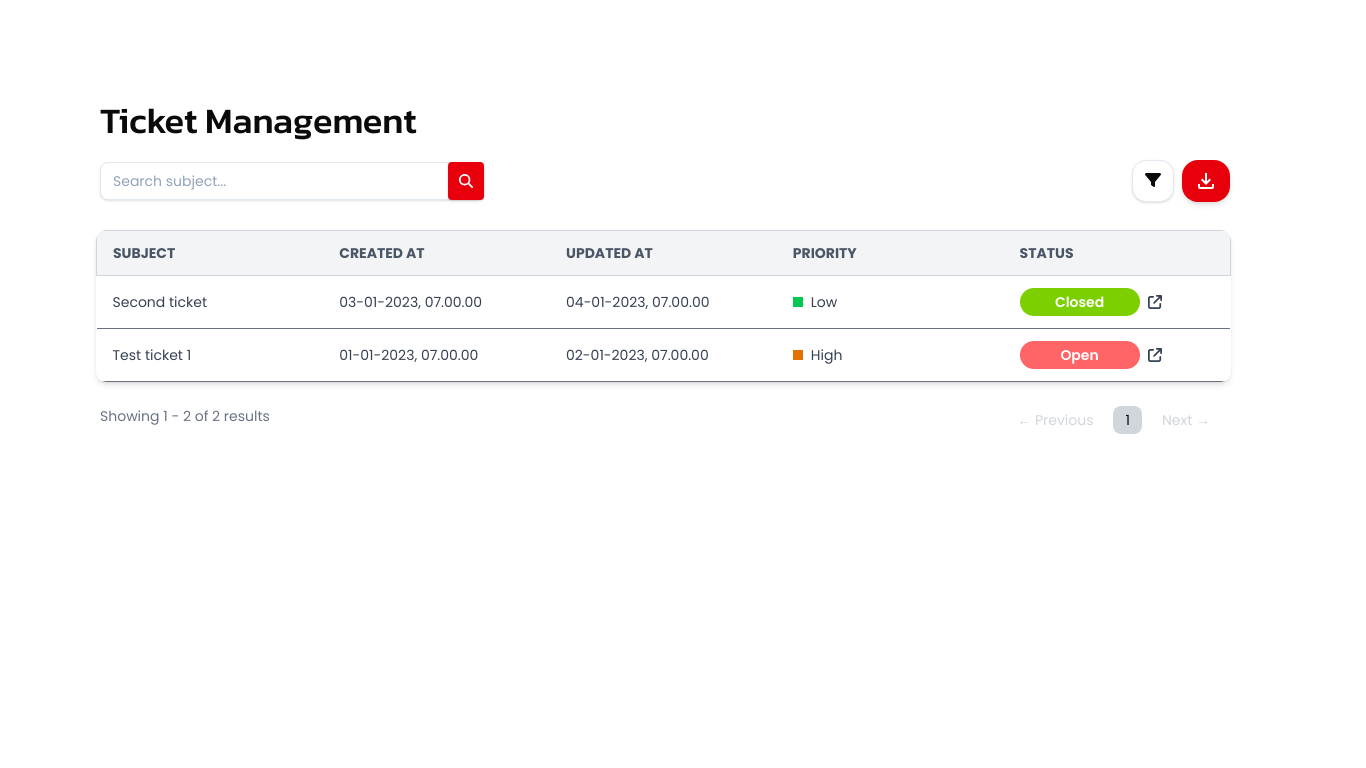
Test: TicketManagement › opens filter modal
This screenshot has width=1366, height=768.
Click the button with test id "filter": [1153, 181] box x1=1132 y1=160 x2=1174 y2=202
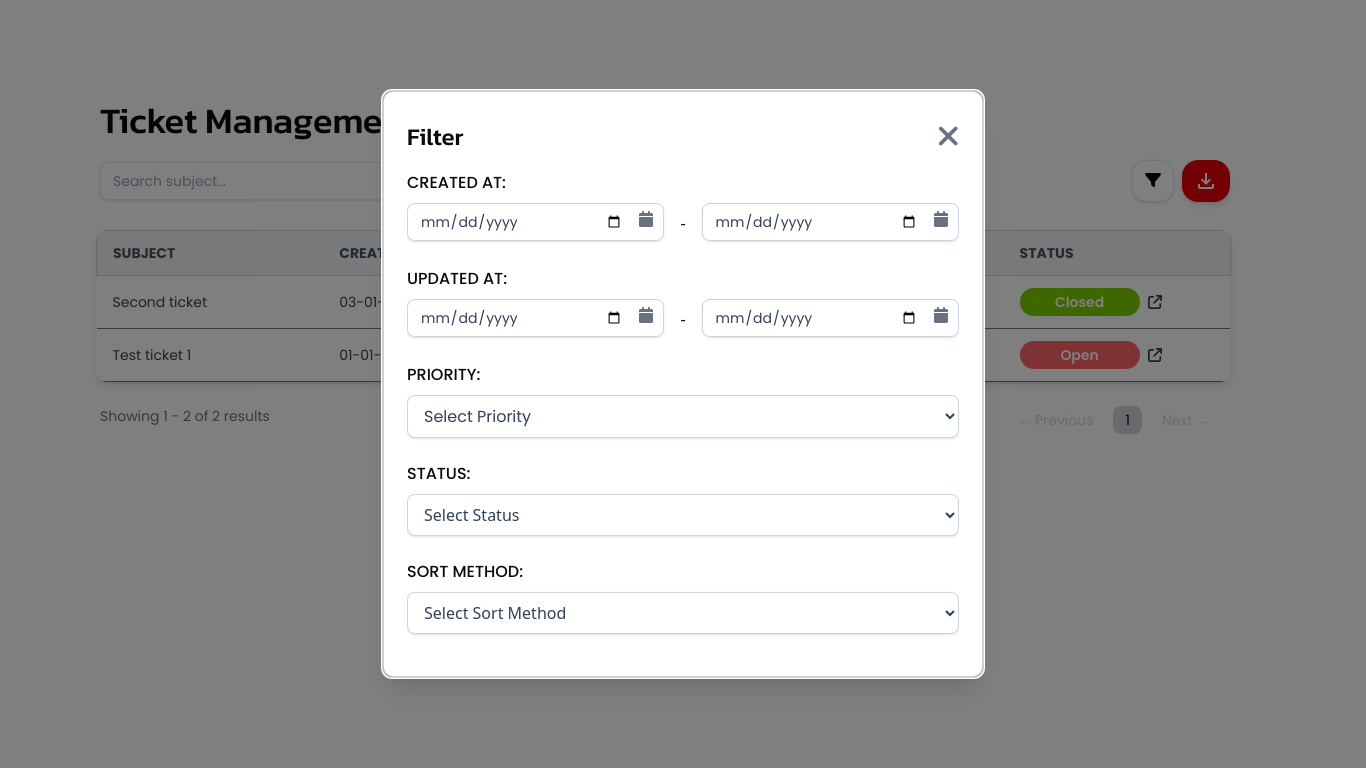
Check: the dialog is shown, box x1=383 y1=91 x2=983 y2=677
